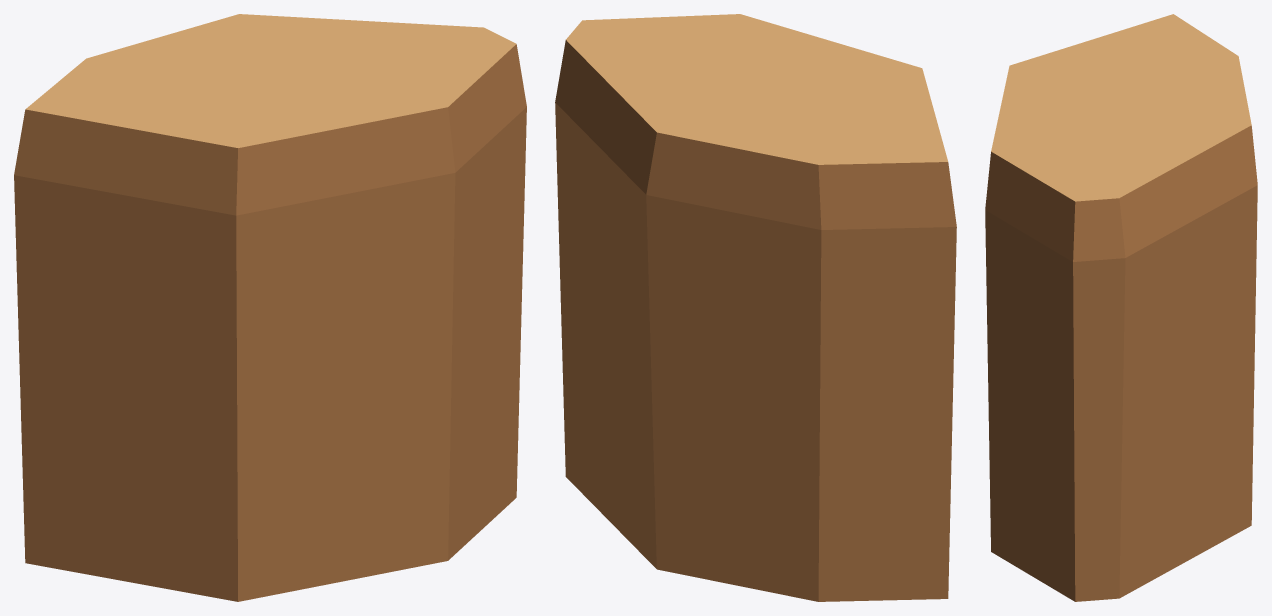
The model's file is Little_Rock_1.fbx.
The picture shows the model from 3 angles, left to right: view 1: azimuth 30°, elevation 25°; view 2: azimuth 150°, elevation 25°; view 3: azimuth 270°, elevation 25°; orthographic projection. The views are drawn at different scales.
Parts seen in each view (by area): view 1: rock_model.040; view 2: rock_model.040; view 3: rock_model.040.
Boxes of the visible parts, <box> form: rock_model.040: <box>14,14,526,601</box>; rock_model.040: <box>555,14,956,601</box>; rock_model.040: <box>985,14,1257,601</box>.
Size of the model in its own units: 50.75 by 48.38 by 29.85.
